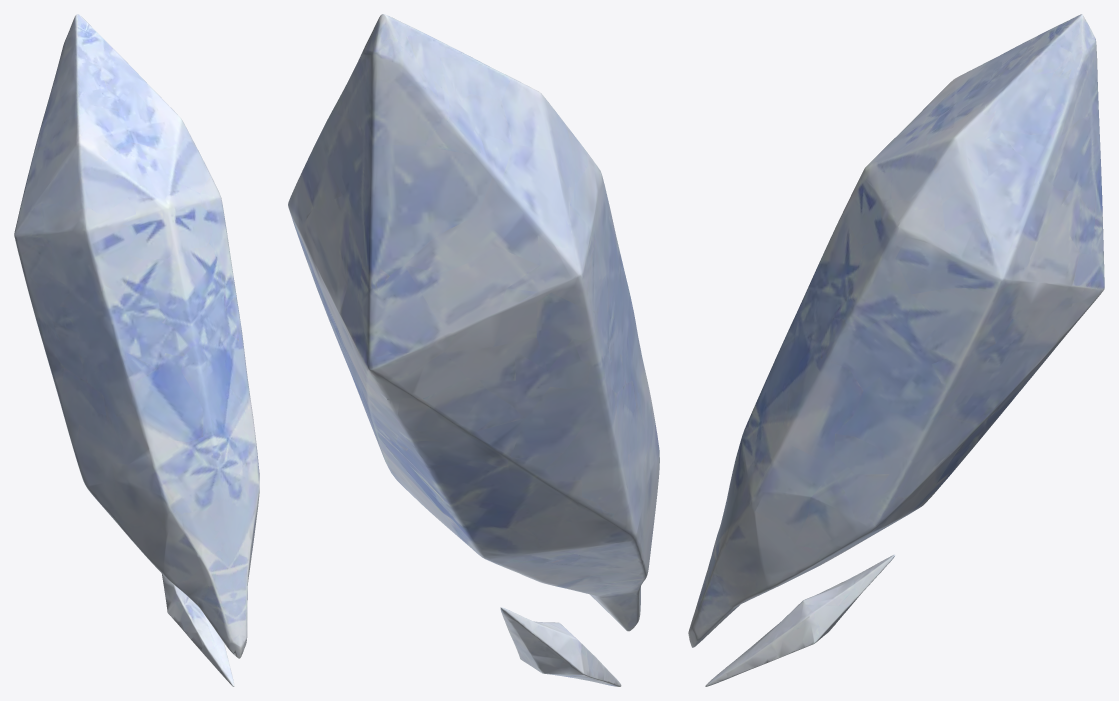
The model's file is crystal.glb.
The picture shows the model from 3 angles, left to right: view 1: azimuth 30°, elevation 25°; view 2: azimuth 150°, elevation 25°; view 3: azimuth 270°, elevation 25°; orthographic projection. The views are drawn at different scales.
Bounding box in the file's own units: 0.6883 × 1.9 × 1.07.
Materials: 1 (1 with a texture image).
